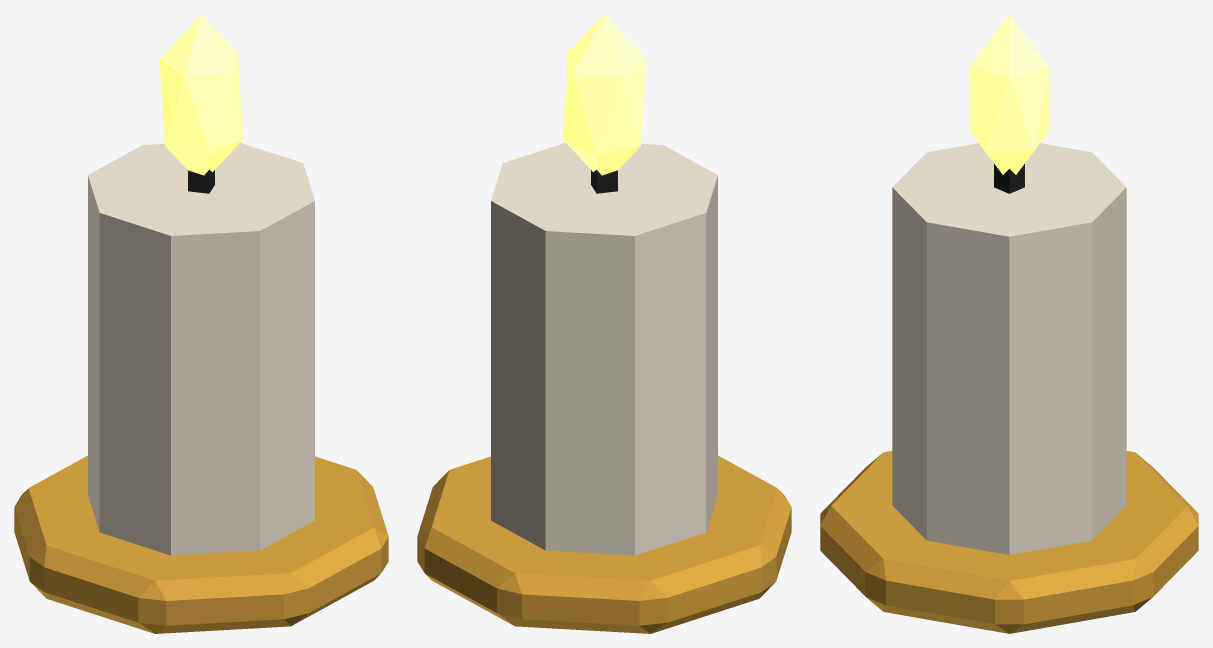
The model's file is candle.glb.
3 views of the same model, side by side, from view 1: azimuth 30°, elevation 25°; view 2: azimuth 150°, elevation 25°; view 3: azimuth 270°, elevation 25° (orthographic).
Parts seen in each view (by area): view 1: candle; view 2: candle; view 3: candle.
Boxes of the visible parts, left/top/right/bottom form: candle: left=14, top=14, right=388, bottom=633; candle: left=417, top=14, right=791, bottom=633; candle: left=820, top=14, right=1198, bottom=633.
Size of the model in its own units: 0.0969 by 0.154 by 0.0969.
